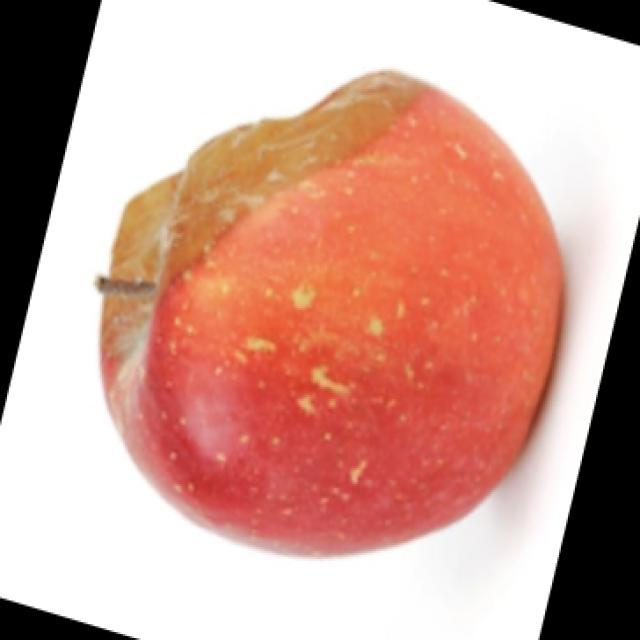Rotten: (102, 74, 565, 554)
